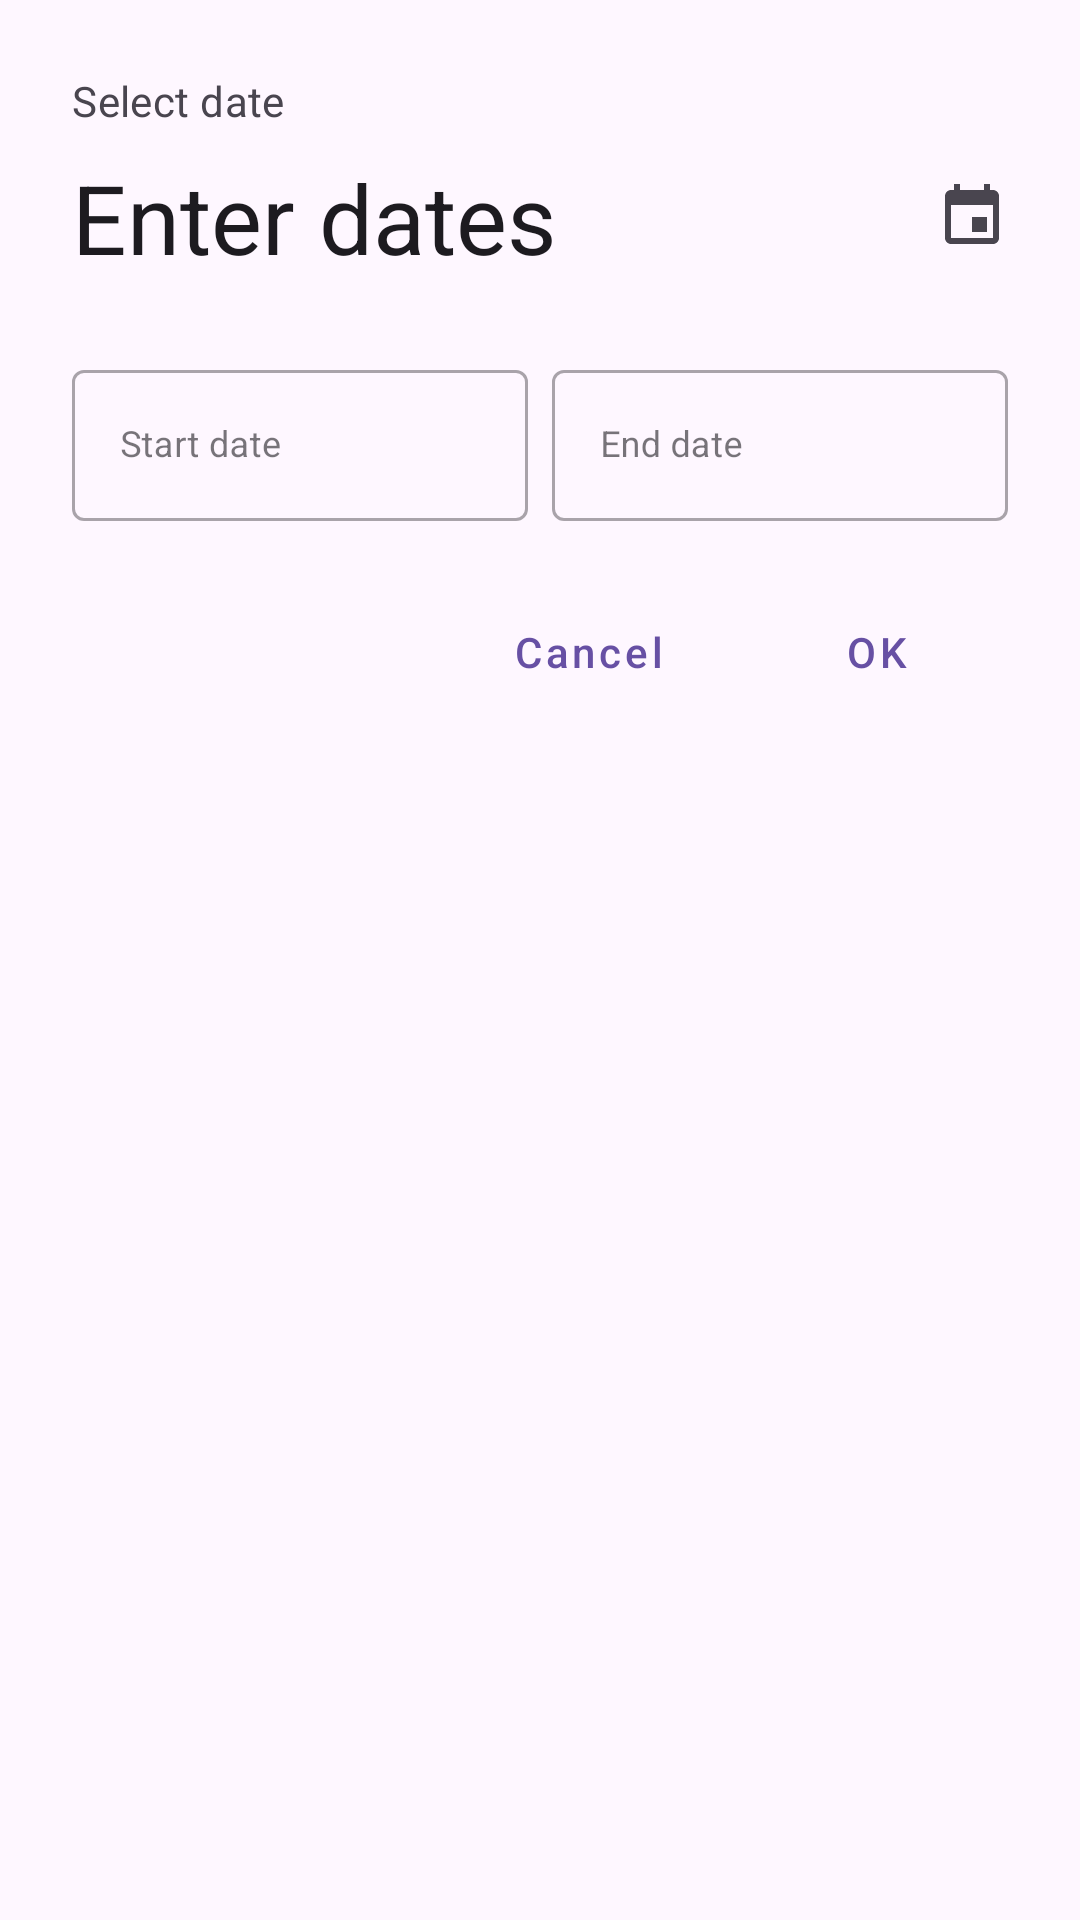

Where to tap for icons on this 1080x1920 app screen, as (x=x, y=y):
event: (x=972, y=214)
